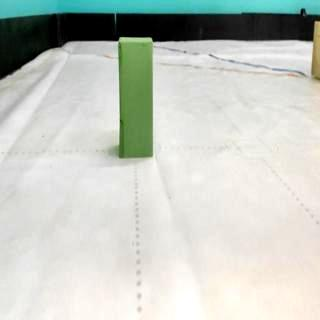greenbox: (119, 36, 153, 158)
